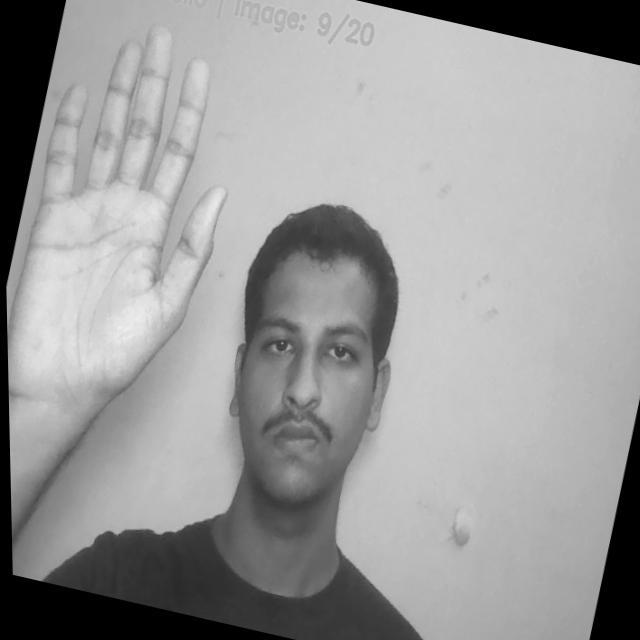Hello: (0, 5, 268, 436)
